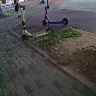beam: (38, 1, 71, 27)
gcooter: (17, 5, 55, 44)
